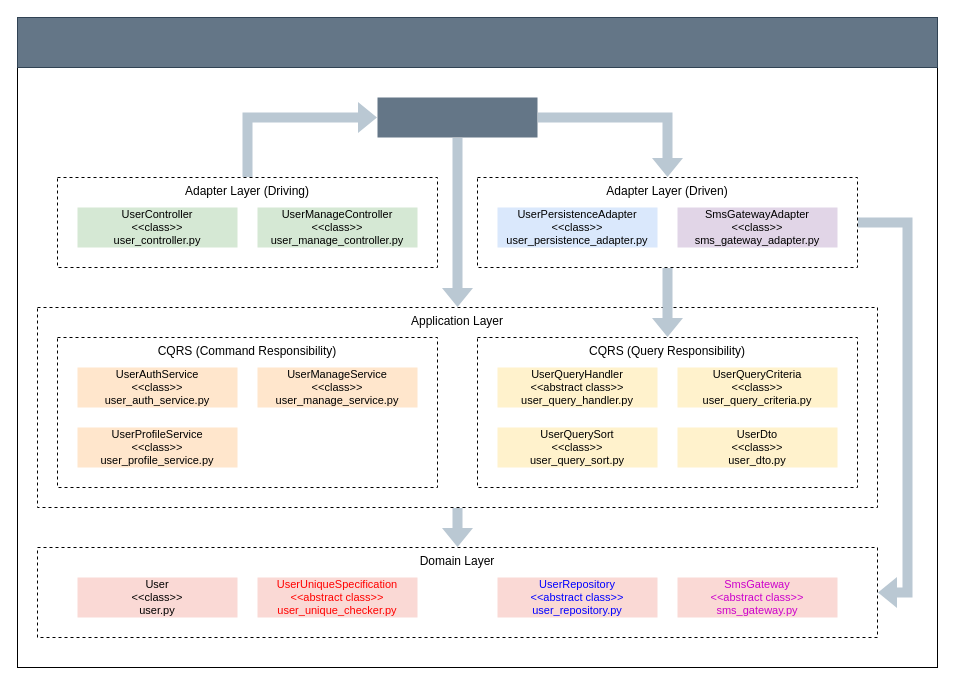
Some shapes in this 955 by 685 pixel diagram are drawn without their labels. The centre of each missing label's shape, as x and y in pixels:
"IocContainer <<class>> ioc_container.py" goes at (457,117).
"main.py app = FastAPI()" goes at (477,42).
